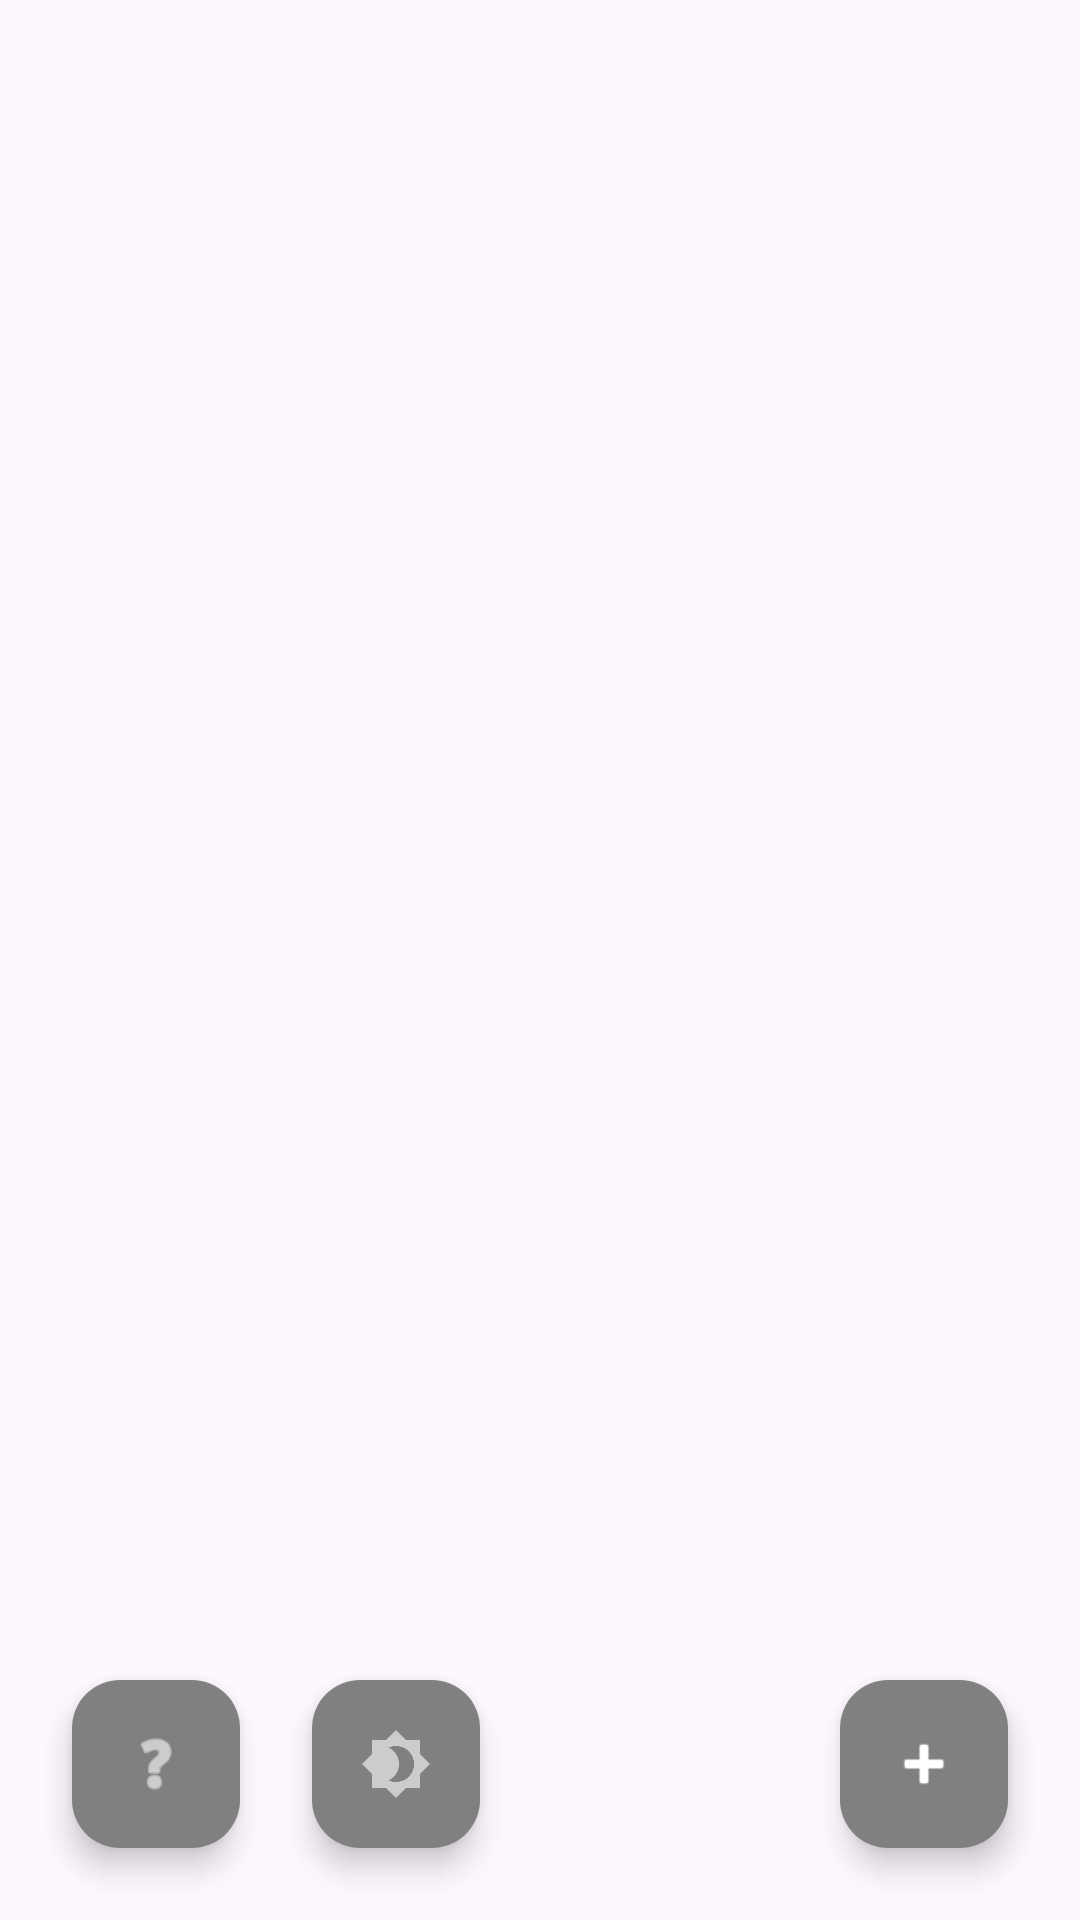

Point at icon controls on the screen. Image size 1080px x 1920px, points as [x,y].
add: [924,1764]
change theme: [396,1764]
help: [156,1764]
